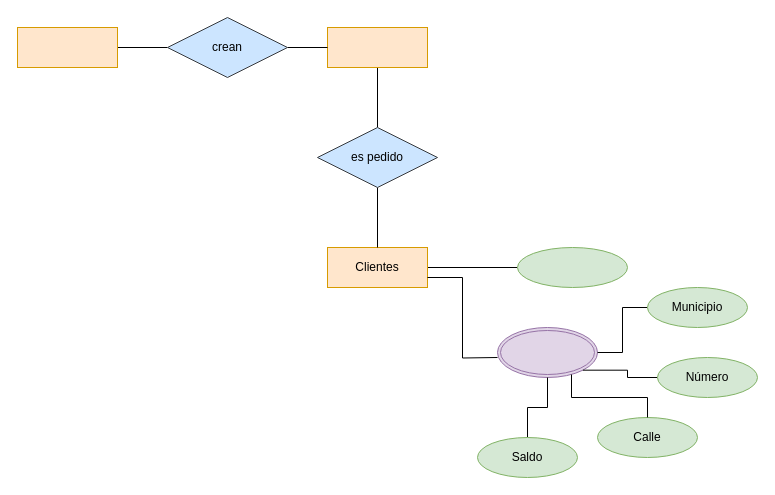
Some shapes in this 775 by 495 pixel diagram are drawn without their labels. Here are the shapes that lost their labels. From the top down, the box of each, then its label:
(16, 26, 118, 68): Fábricas
(326, 26, 428, 68): Artículos
(516, 246, 628, 288): Número de cliente
(496, 326, 598, 378): Dirección de envio
